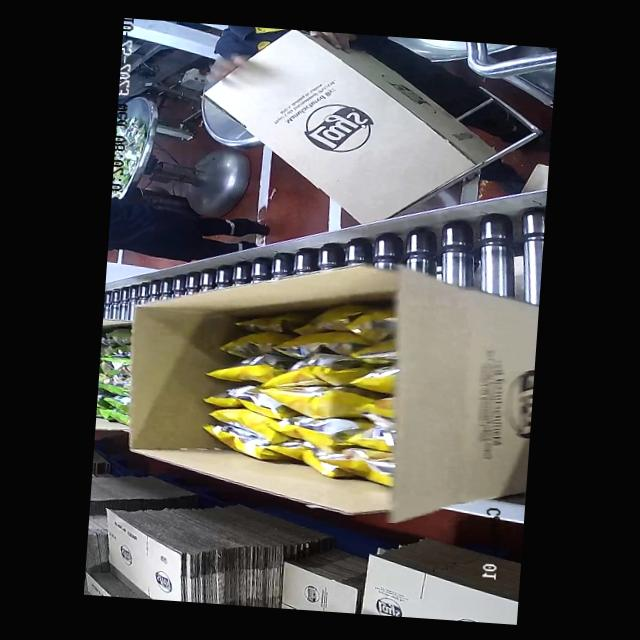salted: (195, 290, 404, 486)
yogurt: (94, 327, 136, 437)
